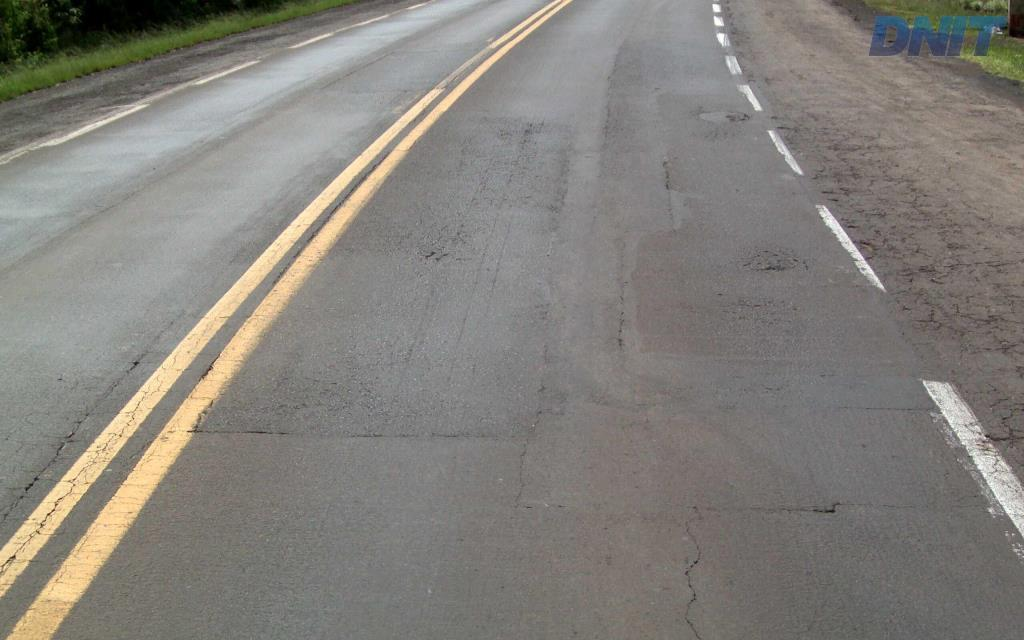crack: (742, 246, 800, 273)
